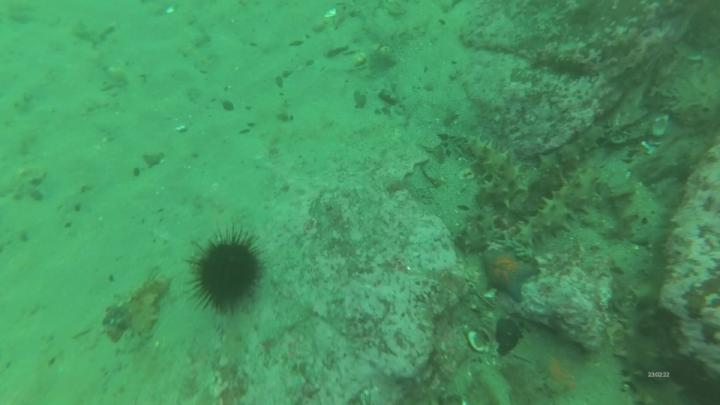echinus: (197, 245, 261, 311)
holothurian: (521, 169, 602, 240), (620, 285, 663, 404), (467, 139, 526, 206), (541, 124, 605, 167), (133, 277, 169, 337), (458, 209, 496, 254)
starfish: (483, 248, 537, 305)
